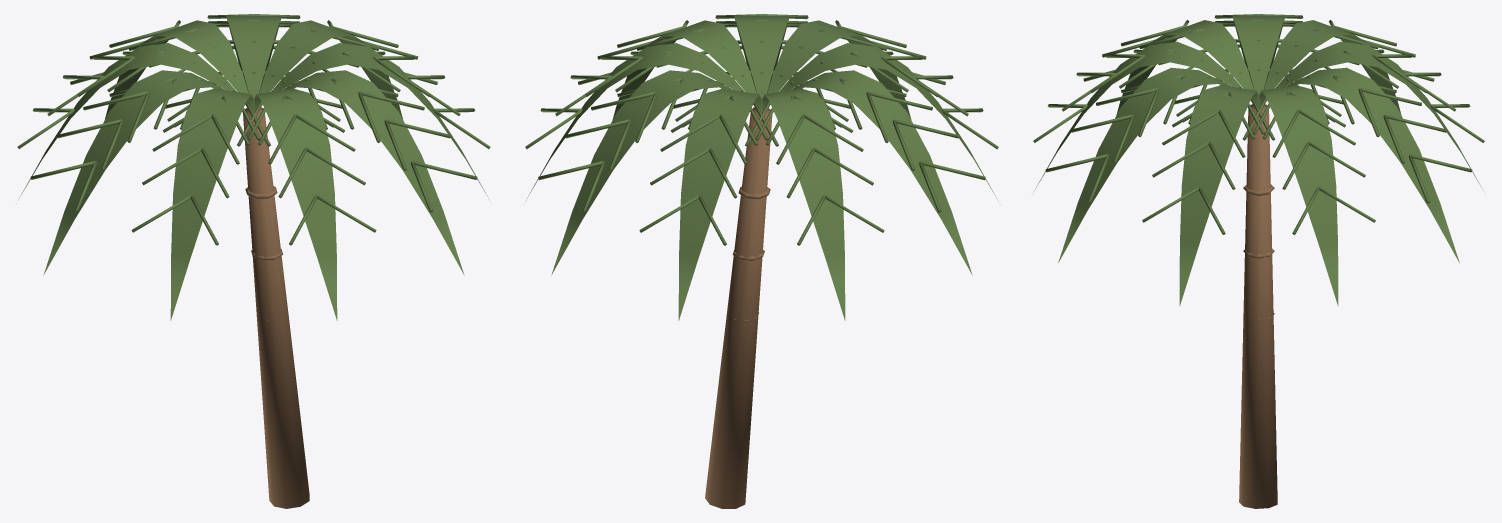
The model's file is SM_ED_Palm_1.fbx.
3 renders of one model, left to right at view 1: azimuth 30°, elevation 25°; view 2: azimuth 150°, elevation 25°; view 3: azimuth 270°, elevation 25°, orthographic. The views are drawn at different scales.
Visible parts, largest first — view 1: Palm.001; view 2: Palm.001; view 3: Palm.001.
Boxes of the visible parts, x1,y1,x2,y2 form: Palm.001: [16, 14, 491, 508]; Palm.001: [525, 14, 998, 508]; Palm.001: [1032, 14, 1485, 508].
Size of the model in its own units: 686 by 689 by 716.
